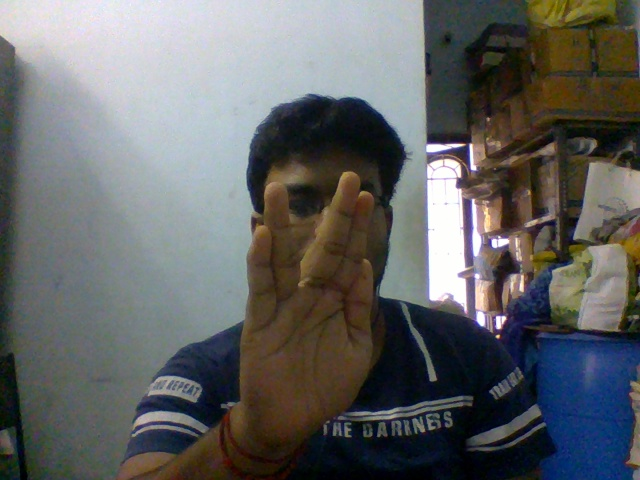LiveLong: (238, 170, 373, 443)
